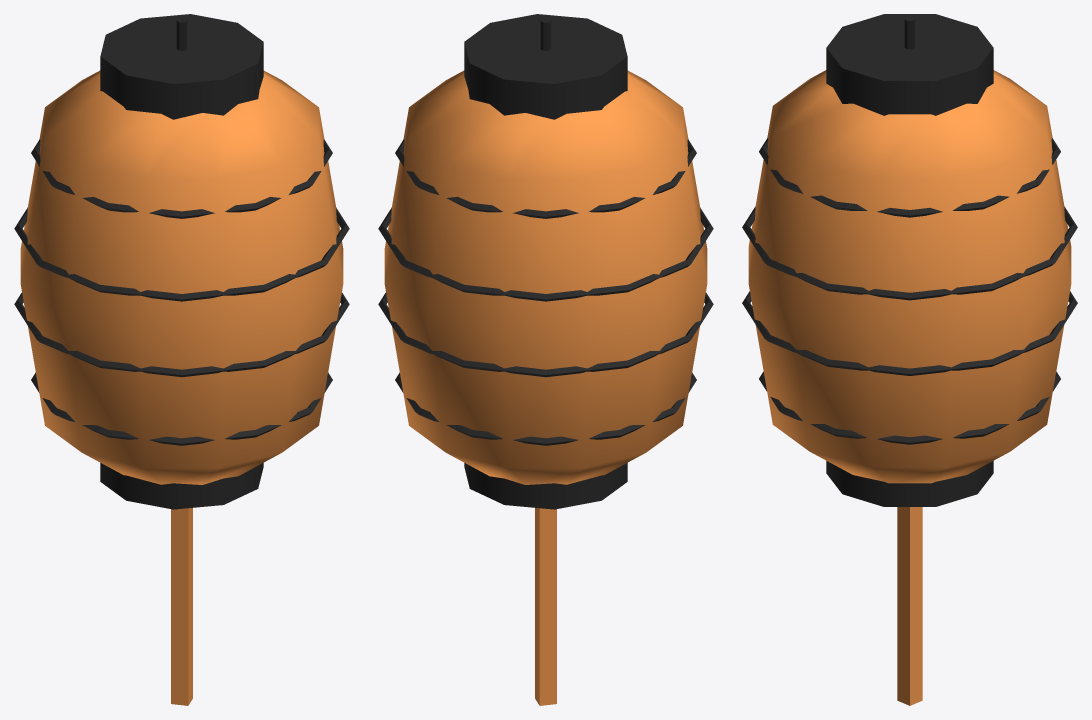
Rendered from St_Lantern_Paper_Warm.fbx.
3 renders of one model, left to right at view 1: azimuth 30°, elevation 25°; view 2: azimuth 150°, elevation 25°; view 3: azimuth 270°, elevation 25°, orthographic.
Visible parts, largest first — view 1: St_Lantern_Paper_Warm_LOD0; view 2: St_Lantern_Paper_Warm_LOD0; view 3: St_Lantern_Paper_Warm_LOD0.
Boxes of the visible parts, bbox=[...] form: St_Lantern_Paper_Warm_LOD0: bbox=[14, 14, 349, 705]; St_Lantern_Paper_Warm_LOD0: bbox=[378, 14, 713, 705]; St_Lantern_Paper_Warm_LOD0: bbox=[742, 14, 1077, 705].
Size of what is drawn, in the model's own units: 0.3216 by 0.72 by 0.3216.
